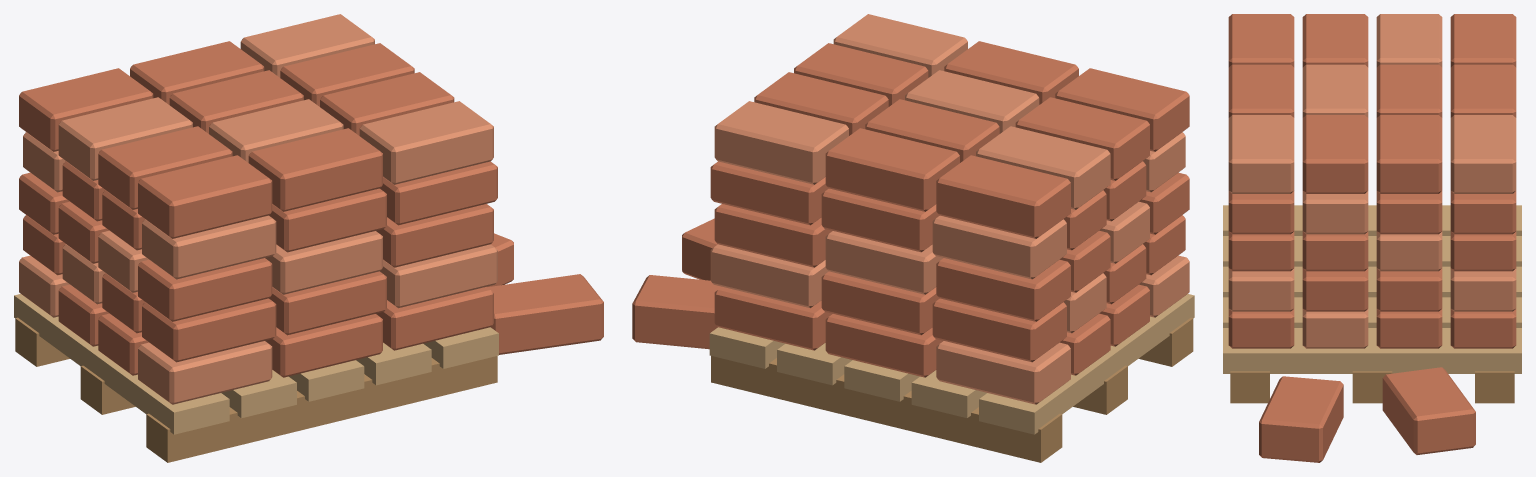
Rendered from Brick_Pile.fbx.
3 renders of one model, left to right at view 1: azimuth 30°, elevation 25°; view 2: azimuth 150°, elevation 25°; view 3: azimuth 270°, elevation 25°, orthographic. The views are drawn at different scales.
Visible parts, largest first — view 1: Pallet Runner, Stacked Brick.048, Stacked Brick.050, Stacked Brick.049, Loose Brick.001, Pallet Deck Board, Stacked Brick.024, Stacked Brick, Stacked Brick.036, Stacked Brick.012, Stacked Brick.054, Stacked Brick.051 (+34 smaller); view 2: Pallet Runner.002, Stacked Brick.057, Stacked Brick.059, Stacked Brick.058, Pallet Deck Board, Stacked Brick.009, Stacked Brick.033, Stacked Brick.021, Stacked Brick.045, Loose Brick, Stacked Brick.048, Stacked Brick.054 (+34 smaller); view 3: Pallet Deck Board.004, Loose Brick, Loose Brick.001, Stacked Brick.050, Stacked Brick.053, Stacked Brick.056, Stacked Brick.059, Stacked Brick.048, Stacked Brick.051, Stacked Brick.054, Stacked Brick.057, Stacked Brick.049 (+26 smaller).
Part boxes in pixels (<box>): Pallet Runner: <box>146,356,497,462</box>; Stacked Brick.048: <box>138,155,272,238</box>; Stacked Brick.050: <box>359,101,493,184</box>; Stacked Brick.049: <box>248,128,382,211</box>; Loose Brick.001: <box>487,274,603,354</box>; Pallet Deck Board: <box>14,294,229,434</box>; Stacked Brick.024: <box>138,258,272,321</box>; Stacked Brick: <box>138,341,272,404</box>; Stacked Brick.036: <box>142,215,276,279</box>; Stacked Brick.012: <box>142,298,276,362</box>; Stacked Brick.054: <box>58,97,192,180</box>; Stacked Brick.051: <box>98,126,232,209</box>; Pallet Runner.002: <box>711,356,1062,462</box>; Stacked Brick.057: <box>936,155,1070,238</box>; Stacked Brick.059: <box>714,101,848,184</box>; Stacked Brick.058: <box>825,128,959,211</box>; Pallet Deck Board: <box>979,294,1194,434</box>; Stacked Brick.009: <box>936,341,1070,404</box>; Stacked Brick.033: <box>936,258,1070,321</box>; Stacked Brick.021: <box>932,298,1066,362</box>; Stacked Brick.045: <box>932,215,1066,279</box>; Loose Brick: <box>632,275,721,349</box>; Stacked Brick.048: <box>1055,68,1189,151</box>; Stacked Brick.054: <box>976,126,1110,209</box>; Pallet Deck Board.004: <box>1223,328,1521,373</box>; Loose Brick: <box>1382,367,1475,454</box>; Loose Brick.001: <box>1259,376,1343,462</box>; Stacked Brick.050: <box>1228,115,1294,193</box>; Stacked Brick.053: <box>1302,115,1368,193</box>; Stacked Brick.056: <box>1376,115,1442,193</box>; Stacked Brick.059: <box>1450,115,1516,193</box>; Stacked Brick.048: <box>1228,14,1294,67</box>; Stacked Brick.051: <box>1302,14,1368,67</box>; Stacked Brick.054: <box>1376,14,1442,67</box>; Stacked Brick.057: <box>1450,14,1516,67</box>; Stacked Brick.049: <box>1228,64,1294,117</box>.
Bounding box in the file's own units: 176 × 93.75 × 105.
